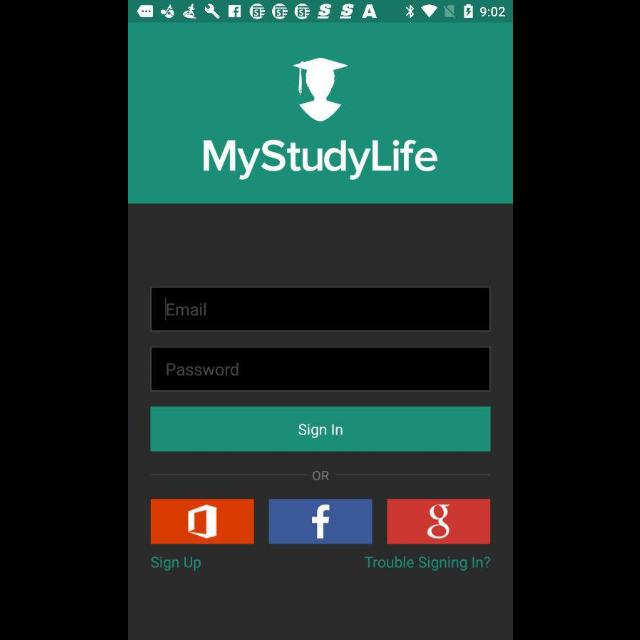image: (292, 58, 348, 122)
input: (150, 347, 490, 391), (150, 288, 490, 332)
text: (203, 140, 437, 182), (364, 555, 491, 571), (166, 364, 238, 376), (149, 556, 201, 572), (167, 302, 206, 316), (310, 469, 330, 483)
textbutton: (150, 406, 490, 452), (268, 499, 372, 545), (386, 499, 490, 545), (150, 500, 254, 544)
uppertaskbar: (128, 1, 512, 23)
